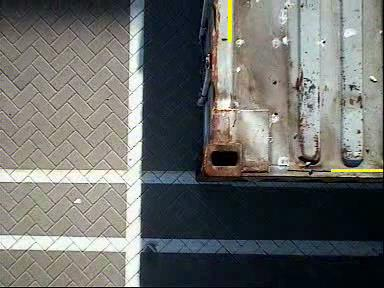groundmarker_2: (109, 144, 190, 196)
